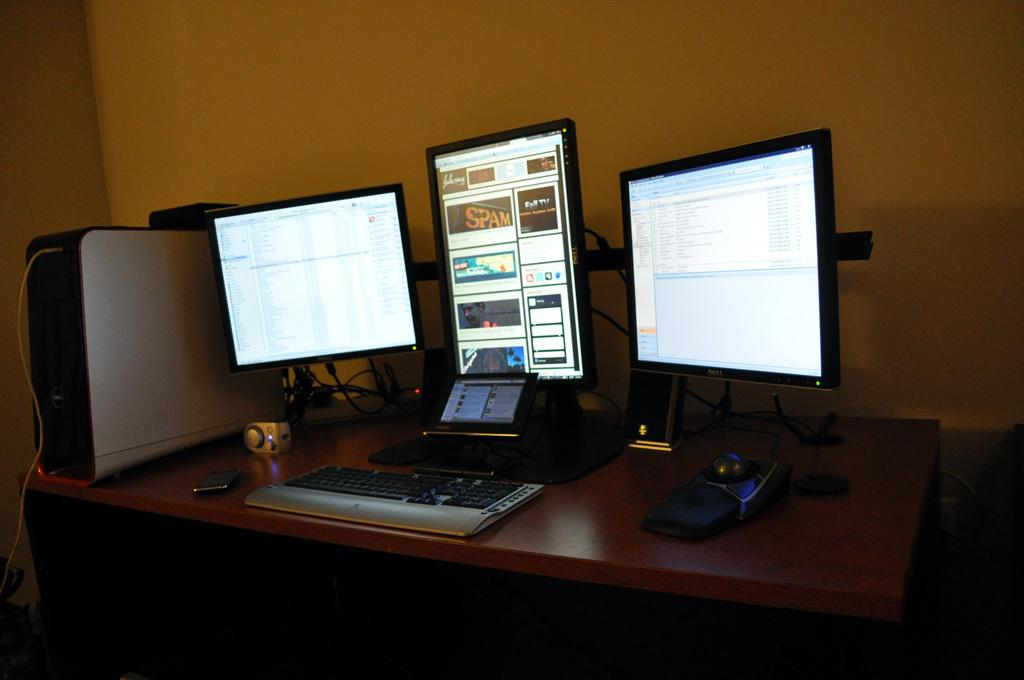Computer-keyboard: (243, 460, 550, 539)
Computer-monitor: (610, 133, 861, 474), (426, 115, 597, 396), (206, 179, 428, 380)
